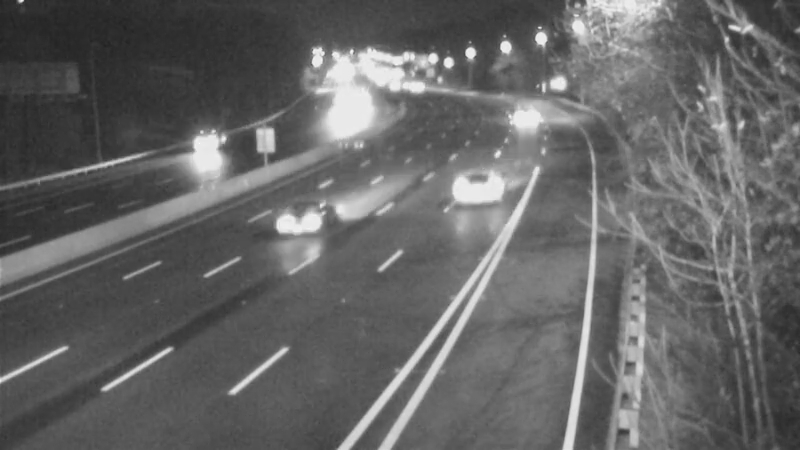vehicle: (433, 148, 513, 228), (256, 175, 336, 255), (186, 110, 266, 190), (491, 99, 541, 149)
